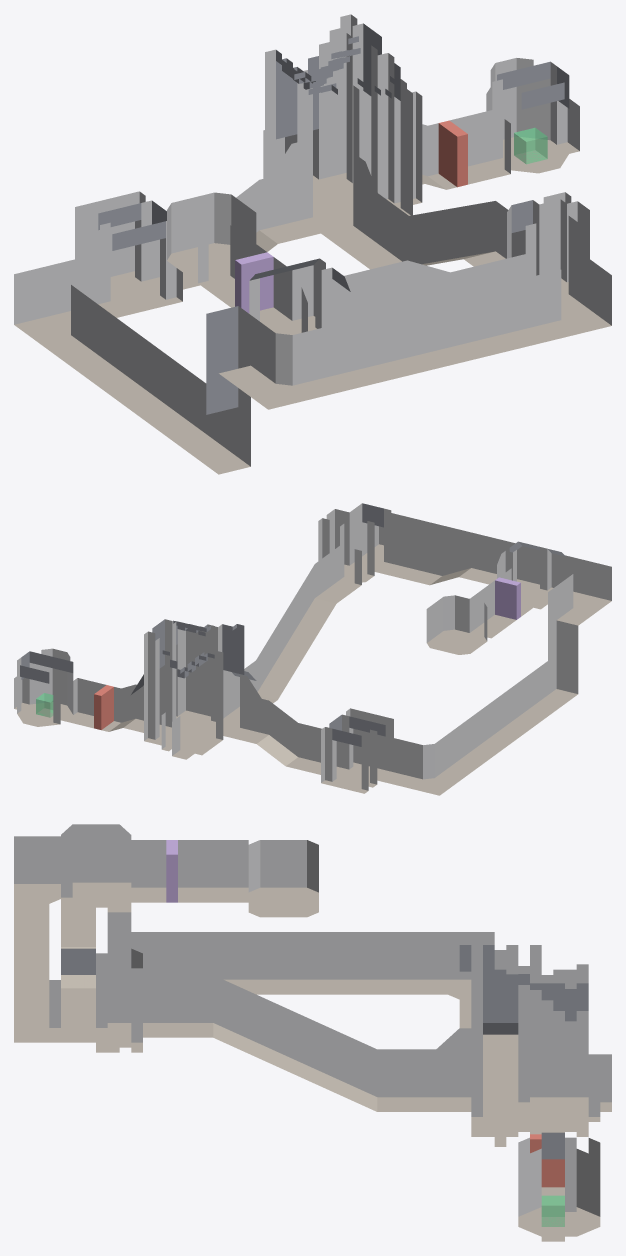
The model's file is research_01.glb.
3 renders of one model, top to bottom at view 1: azimuth 30°, elevation 25°; view 2: azimuth 150°, elevation 25°; view 3: azimuth 270°, elevation 25°, orthographic. The views are drawn at different scales.
Visible parts, largest first — view 1: corridor:5, room:1, corridor:0, corridor:3, room:2, room:1/portals, room:3, room:5, room:1/cavern, entities, room:0, corridor:1 (+13 smaller); view 2: corridor:5, corridor:0, corridor:3, room:1, room:1/portals, room:2, room:3, corridor:2, room:0, room:5, corridor:1, room:1/cavern (+12 smaller); view 3: corridor:5, corridor:0, room:1, corridor:4, room:2, room:4, room:5, room:0, room:1/cavern, corridor:3, room:1/portals, corridor:0/portal (+8 smaller).
Boxes of the visible parts, x1=… form: corridor:5: x1=14, y1=253, x2=611, y2=474; room:1: x1=265, y1=14, x2=412, y2=237; corridor:0: x1=346, y1=193, x2=525, y2=269; corridor:3: x1=332, y1=254, x2=525, y2=325; room:2: x1=486, y1=58, x2=569, y2=173; room:1/portals: x1=302, y1=23, x2=388, y2=229; room:3: x1=75, y1=191, x2=182, y2=317; room:5: x1=167, y1=192, x2=256, y2=280; room:1/cavern: x1=276, y1=23, x2=400, y2=139; entities: x1=235, y1=120, x2=547, y2=313; room:0: x1=507, y1=192, x2=589, y2=313; corridor:1: x1=422, y1=110, x2=510, y2=189; corridor:5: x1=362, y1=513, x2=611, y2=795; corridor:0: x1=235, y1=546, x2=361, y2=711; corridor:3: x1=379, y1=529, x2=522, y2=585; room:1: x1=144, y1=621, x2=239, y2=755; room:1/portals: x1=148, y1=619, x2=223, y2=739; room:2: x1=17, y1=648, x2=73, y2=726; room:3: x1=321, y1=708, x2=393, y2=793; corridor:2: x1=249, y1=699, x2=341, y2=774; room:0: x1=318, y1=503, x2=391, y2=583; room:5: x1=426, y1=595, x2=487, y2=654; corridor:1: x1=65, y1=678, x2=142, y2=731; room:1/cavern: x1=152, y1=619, x2=244, y2=678; corridor:5: x1=14, y1=836, x2=494, y2=1042; corridor:0: x1=143, y1=975, x2=435, y2=1111; room:1: x1=471, y1=959, x2=588, y2=1136; corridor:4: x1=131, y1=840, x2=248, y2=902; room:2: x1=518, y1=1132, x2=600, y2=1236; room:4: x1=61, y1=824, x2=131, y2=912; room:5: x1=248, y1=840, x2=318, y2=917; room:0: x1=61, y1=948, x2=142, y2=1052; room:1/cavern: x1=483, y1=964, x2=588, y2=1022; corridor:3: x1=61, y1=912, x2=95, y2=1022; room:1/portals: x1=471, y1=985, x2=529, y2=1116; corridor:0/portal: x1=436, y1=1028, x2=471, y2=1111.
Bounding box in the file's own units: 55 × 16.5 × 51.
